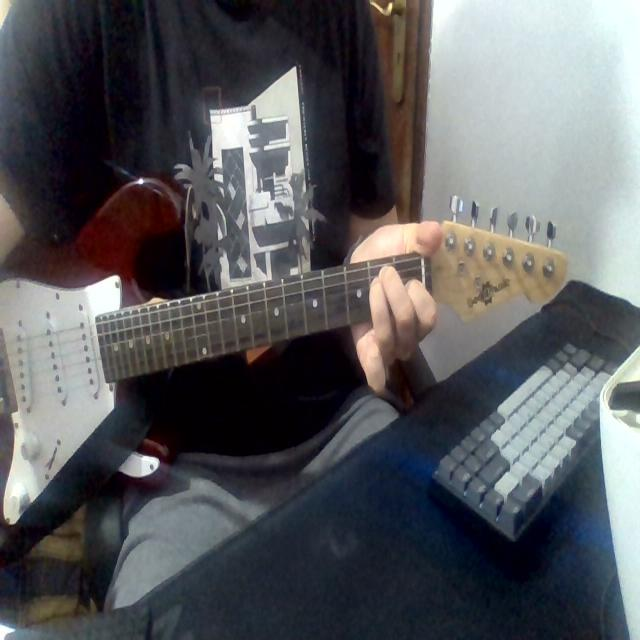E: (364, 239, 442, 378)
